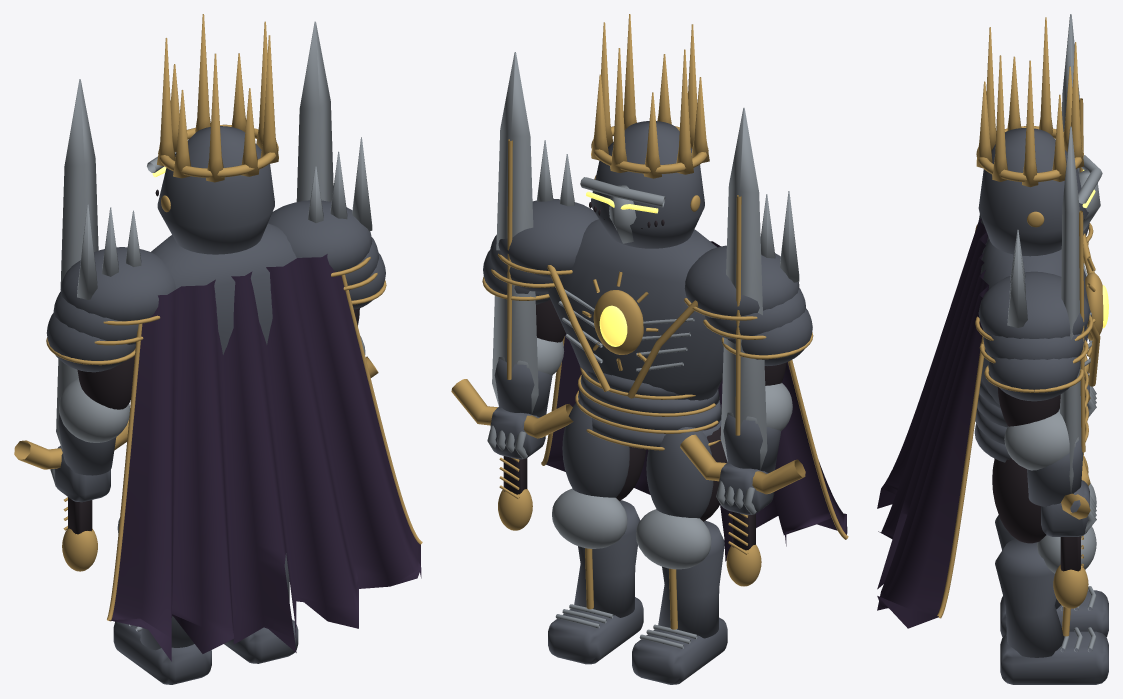
Rendered from malakar.glb.
The picture shows the model from 3 angles, left to right: view 1: azimuth 30°, elevation 25°; view 2: azimuth 150°, elevation 25°; view 3: azimuth 270°, elevation 25°; orthographic projection. The views are drawn at different scales.
Parts seen in each view (by area): view 1: Cape_Royal charcoal velvet, Head_Blackened tempered steel, Arm_L_Blackened tempered steel, Head_Antique electrum, Torso_Blackened tempered steel, Arm_R_Blackened tempered steel, Sword_L_Burnished plate edges, Arm_L_Burnished plate edges, Sword_R_Burnished plate edges, Forearm_L_Blackened tempered steel, Foot_L_Blackened tempered steel, Cape_Antique electrum (+7 smaller); view 2: Torso_Blackened tempered steel, Head_Antique electrum, Arm_L_Blackened tempered steel, Sword_L_Burnished plate edges, Sword_R_Burnished plate edges, Cape_Royal charcoal velvet, Head_Blackened tempered steel, Torso_Antique electrum, Arm_R_Blackened tempered steel, Sword_L_Antique electrum, Sword_R_Antique electrum, Leg_L_Blackened tempered steel (+26 smaller); view 3: Cape_Royal charcoal velvet, Arm_R_Blackened tempered steel, Head_Antique electrum, Head_Blackened tempered steel, Knee_R_Blackened tempered steel, Foot_R_Blackened tempered steel, Sword_R_Burnished plate edges, Arm_R_Burnished plate edges, Torso_Blackened tempered steel, Forearm_R_Blackened tempered steel, Leg_R_Oiled leather, Sword_R_Antique electrum (+9 smaller).
Boxes of the visible parts, x1,y1,x2,y2 form: Cape_Royal charcoal velvet: [109, 254, 421, 661]; Head_Blackened tempered steel: [157, 126, 274, 254]; Arm_L_Blackened tempered steel: [46, 247, 175, 372]; Head_Antique electrum: [157, 14, 278, 212]; Torso_Blackened tempered steel: [151, 223, 296, 354]; Arm_R_Blackened tempered steel: [268, 200, 385, 309]; Sword_L_Burnished plate edges: [56, 79, 98, 449]; Arm_L_Burnished plate edges: [59, 204, 141, 442]; Sword_R_Burnished plate edges: [296, 21, 333, 201]; Forearm_L_Blackened tempered steel: [54, 413, 116, 502]; Foot_L_Blackened tempered steel: [113, 621, 211, 684]; Cape_Antique electrum: [107, 274, 422, 621]; Torso_Blackened tempered steel: [548, 219, 723, 446]; Head_Antique electrum: [591, 14, 709, 211]; Arm_L_Blackened tempered steel: [684, 245, 812, 365]; Sword_L_Burnished plate edges: [720, 108, 767, 470]; Sword_R_Burnished plate edges: [492, 52, 538, 414]; Cape_Royal charcoal velvet: [546, 241, 847, 561]; Head_Blackened tempered steel: [591, 121, 704, 248]; Torso_Antique electrum: [547, 265, 720, 450]; Arm_R_Blackened tempered steel: [483, 198, 598, 304]; Sword_L_Antique electrum: [680, 195, 805, 586]; Sword_R_Antique electrum: [451, 139, 573, 530]; Leg_L_Blackened tempered steel: [646, 427, 713, 518]; Cape_Royal charcoal velvet: [877, 218, 988, 628]; Arm_R_Blackened tempered steel: [978, 271, 1089, 401]; Head_Antique electrum: [976, 17, 1083, 227]; Head_Blackened tempered steel: [978, 128, 1088, 256]; Knee_R_Blackened tempered steel: [995, 539, 1064, 657]; Foot_R_Blackened tempered steel: [1000, 631, 1108, 684]; Sword_R_Burnished plate edges: [1060, 126, 1081, 493]; Arm_R_Burnished plate edges: [1004, 229, 1078, 470]; Torso_Blackened tempered steel: [974, 239, 1091, 462]; Forearm_R_Blackened tempered steel: [1027, 439, 1089, 536]; Leg_R_Oiled leather: [992, 458, 1045, 543]; Sword_R_Antique electrum: [1053, 210, 1090, 608].
Size of the model in its own units: 1.5 by 2.51 by 0.854.
